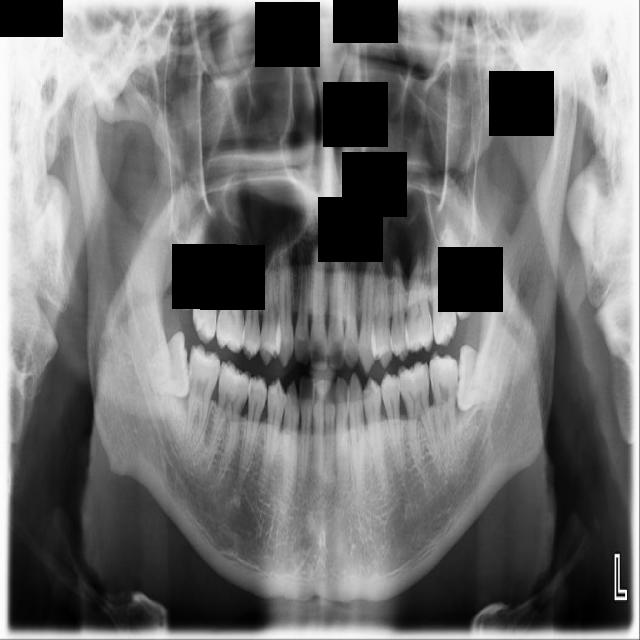3M ESPE Implant: (167, 217, 209, 312)
73: (606, 563, 610, 572)
BioHorizons Implant: (424, 237, 460, 348)
BioLife Implant: (438, 223, 486, 322)
Biomet 3i Implant: (454, 343, 501, 415)
Blue Sky Bio Implant: (429, 351, 458, 450)
Caries: (188, 246, 225, 346)
Implant: (185, 343, 221, 445)
Keystone Dental Implant: (147, 330, 193, 400)
